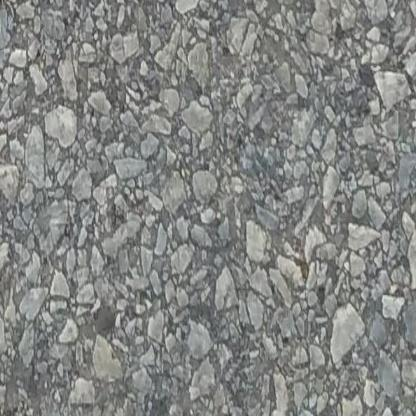Cracks: (0, 0, 46, 24)
